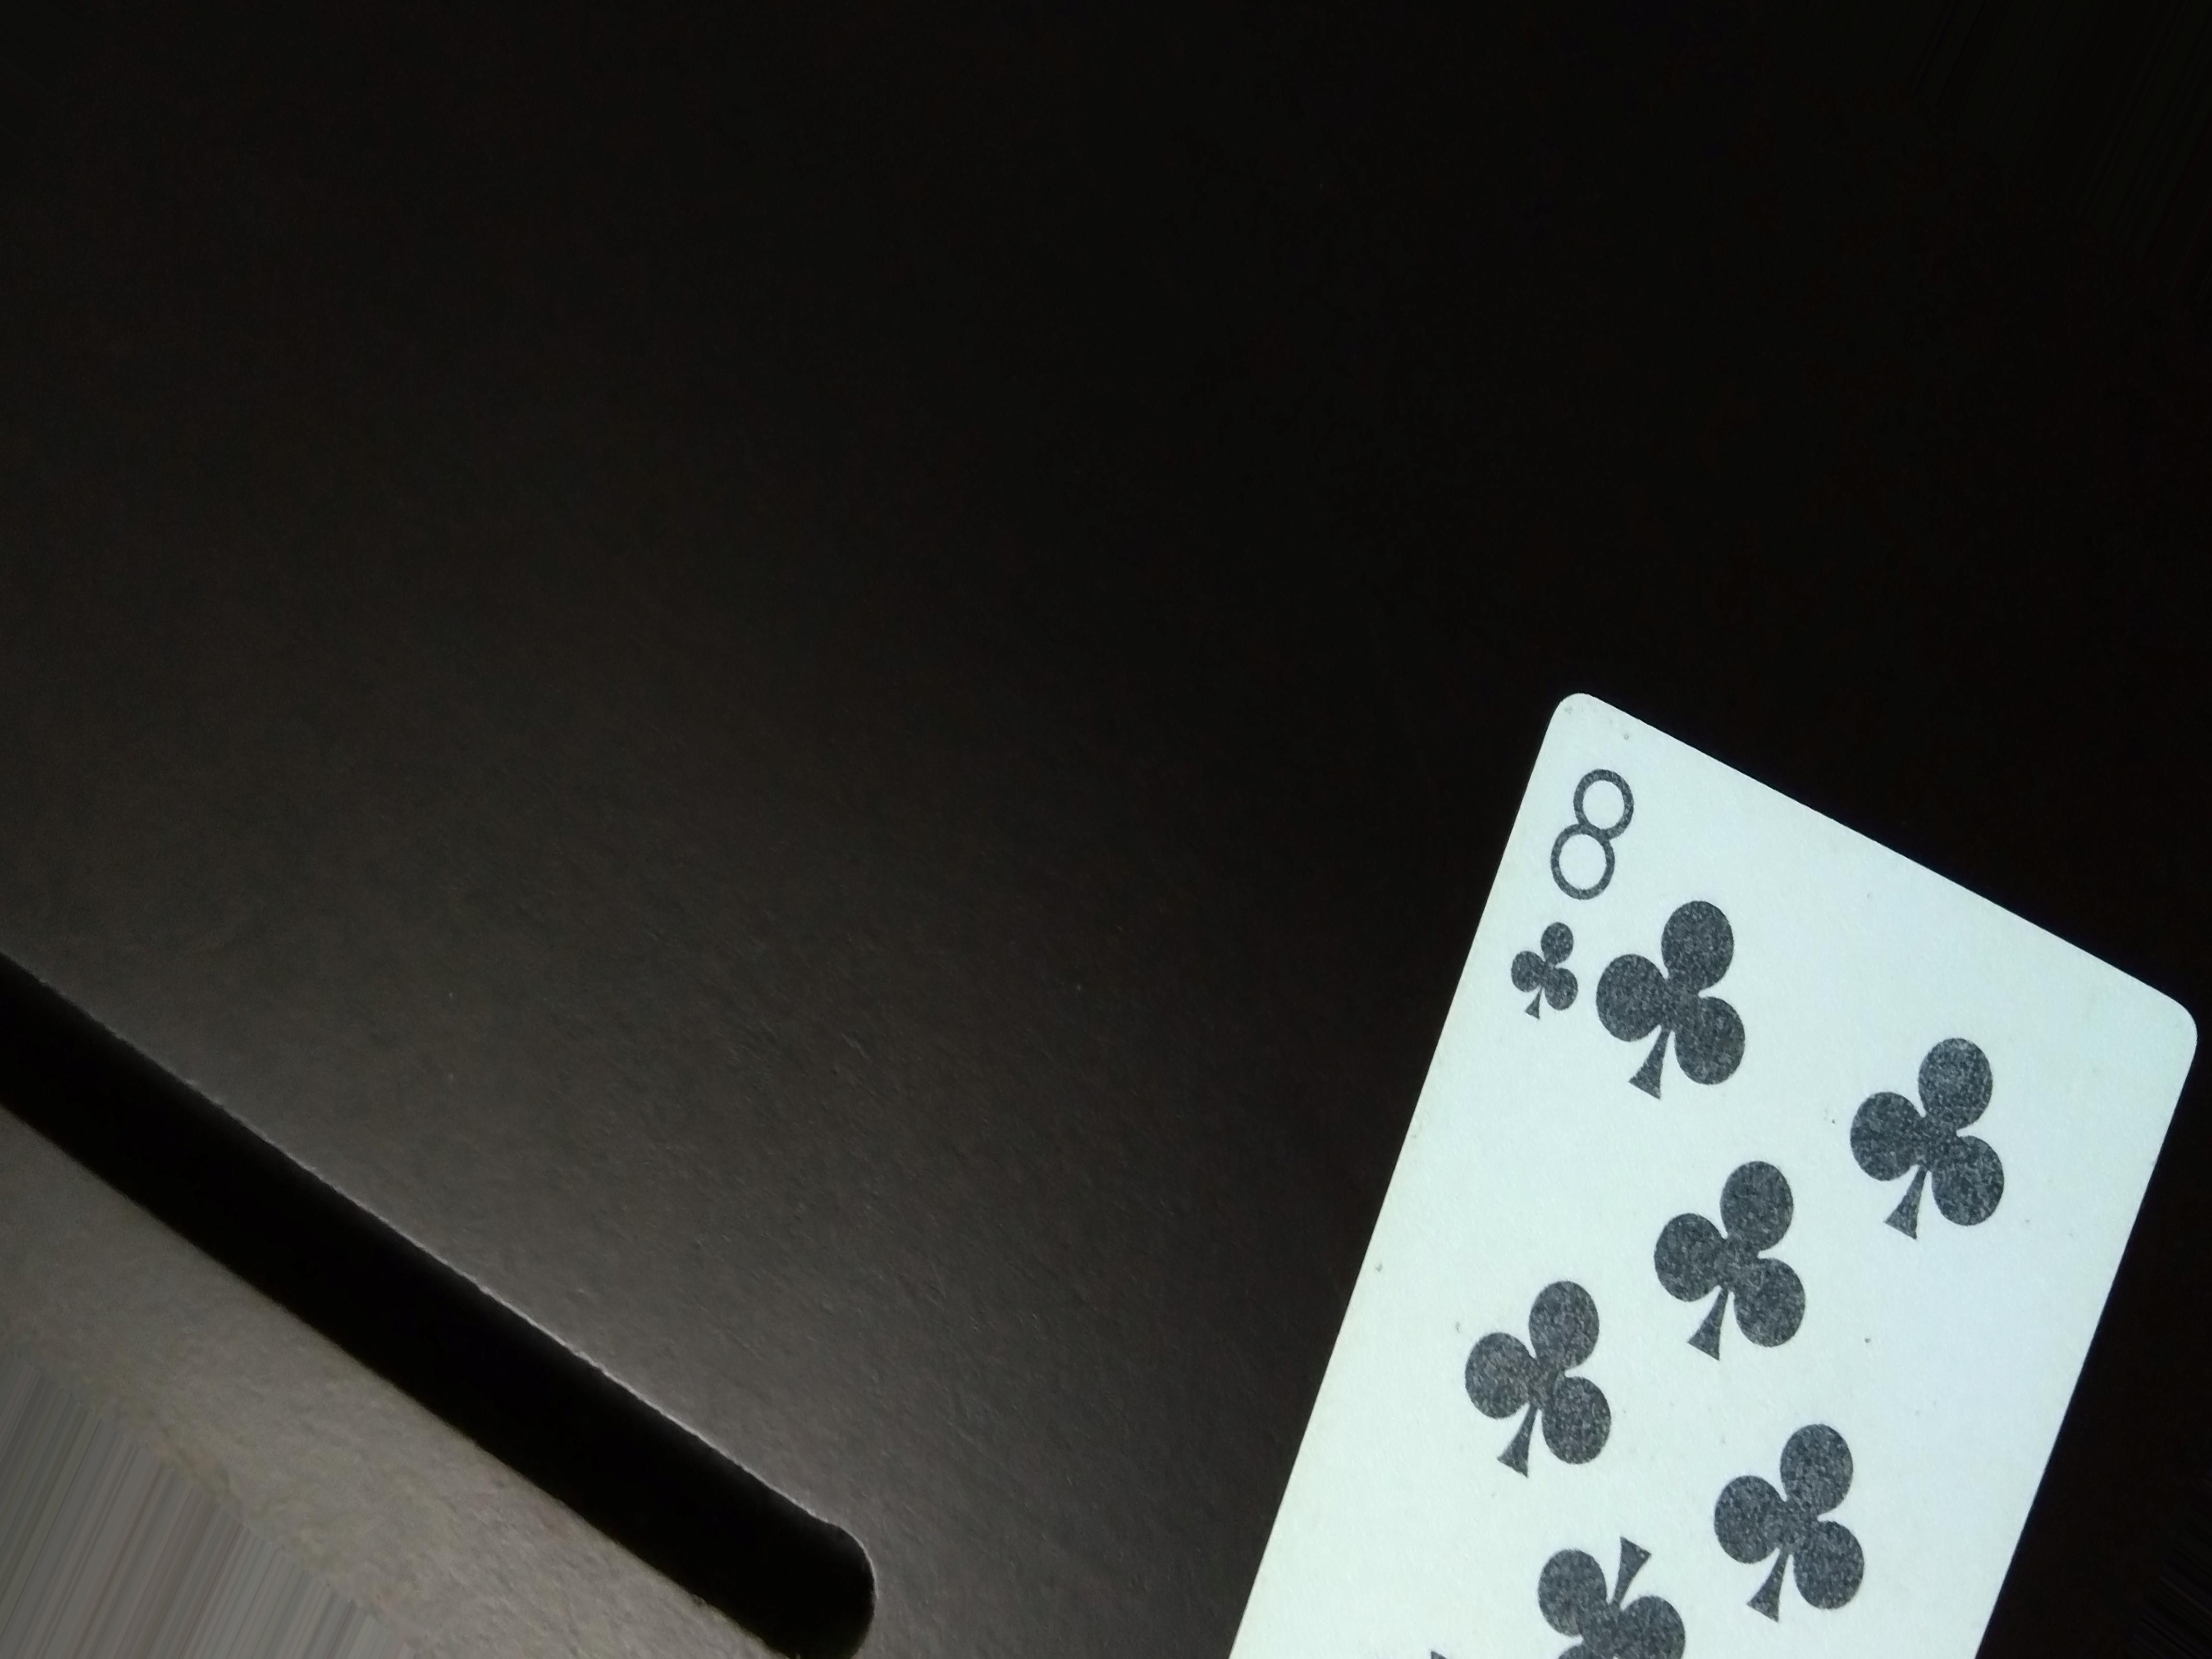8C: (1480, 721, 1660, 1060)
